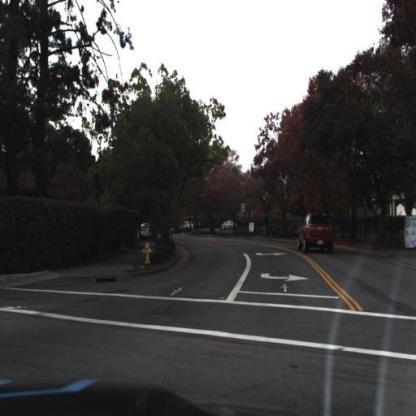car: (288, 205, 338, 258), (218, 212, 236, 235), (178, 220, 196, 236)
